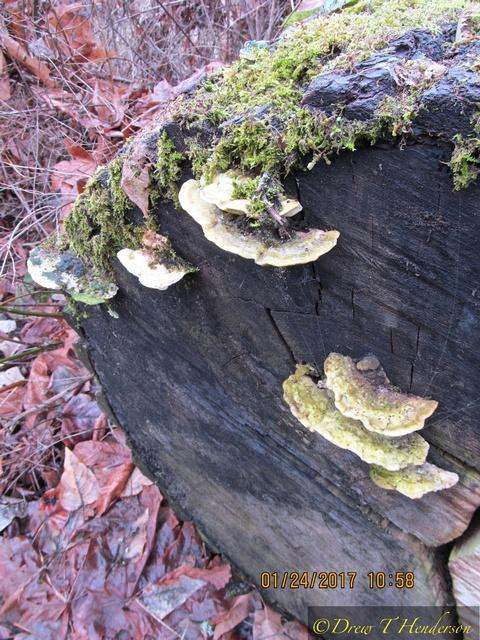Non-edible Mushroom: (30, 166, 340, 308), (281, 349, 459, 500)
